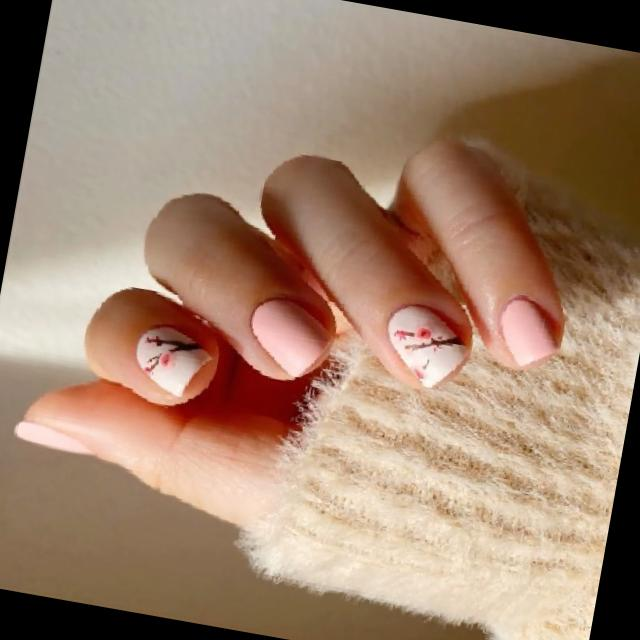Nail: (387, 304, 466, 386), (251, 297, 328, 377), (135, 325, 210, 396), (500, 295, 556, 366), (14, 419, 93, 454)
